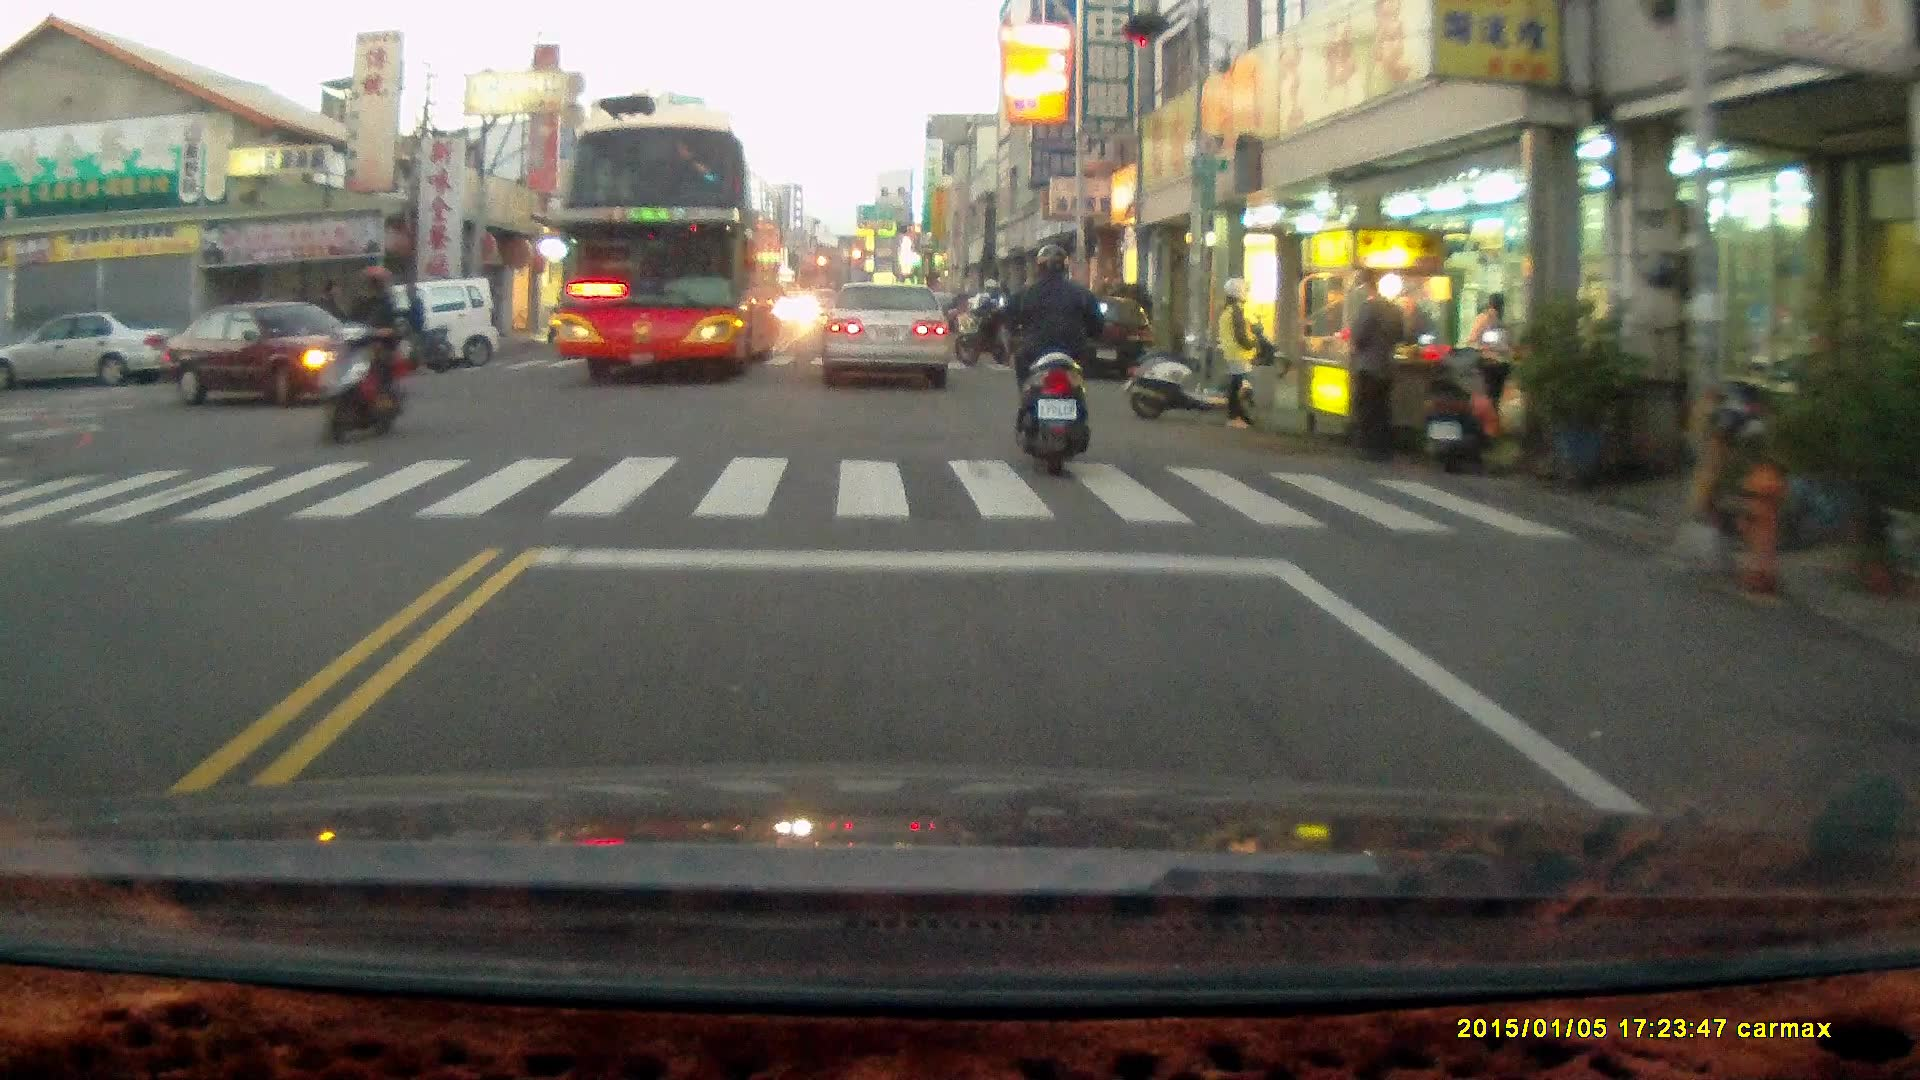pedestrian: (1347, 265, 1405, 460), (1467, 292, 1514, 448), (1216, 281, 1261, 437)
rider: (997, 241, 1110, 478), (307, 264, 406, 446), (380, 281, 452, 376), (952, 279, 1022, 367)
vehicle: (555, 123, 784, 387), (171, 303, 398, 408), (821, 281, 956, 388), (356, 275, 500, 371), (2, 311, 171, 388), (1047, 292, 1159, 383)
